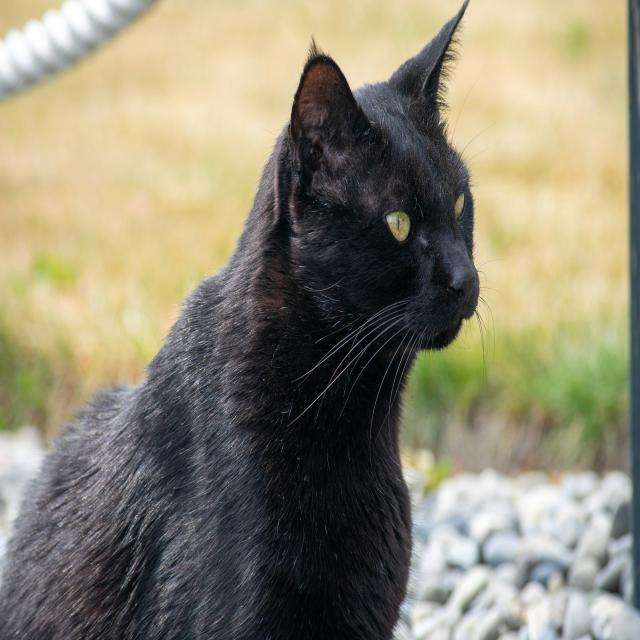cat: (241, 0, 521, 476)
